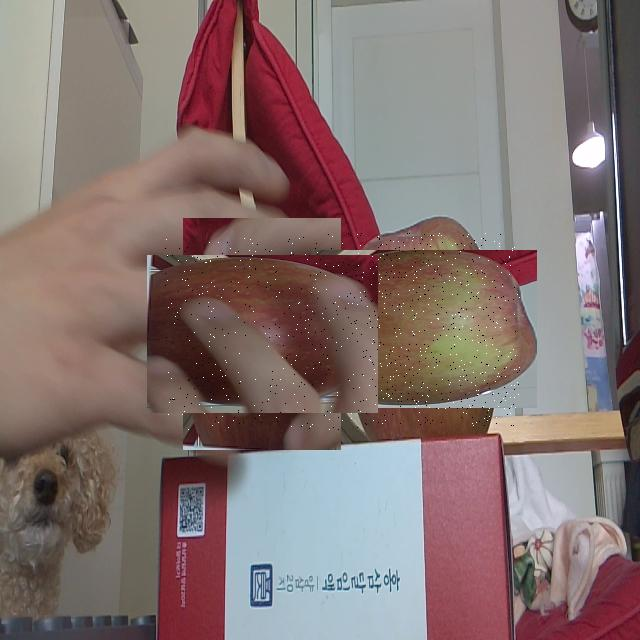apple: (165, 237, 359, 431), (327, 233, 520, 426)
